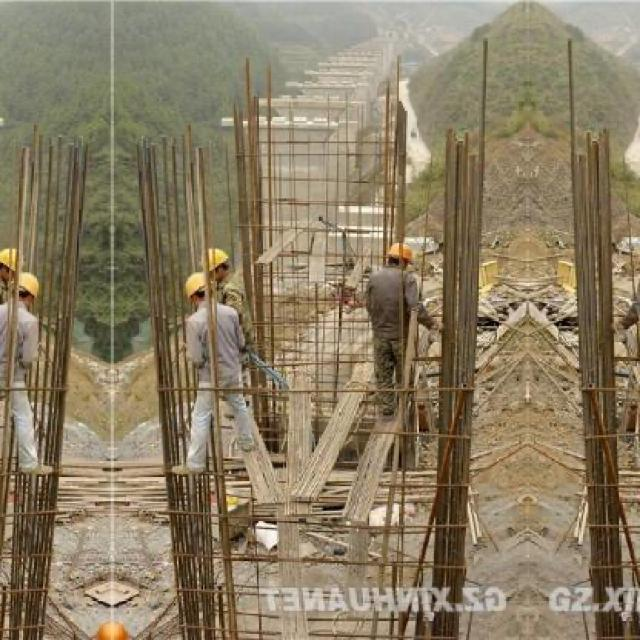helmet: (186, 271, 220, 309), (8, 271, 42, 309), (200, 246, 234, 282), (386, 240, 417, 274), (1, 244, 28, 282)
